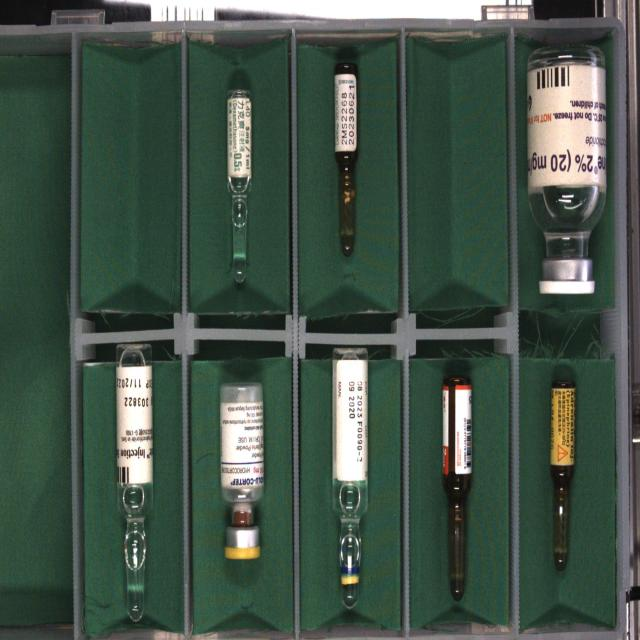Vials: (527, 46, 607, 294), (220, 383, 264, 559)
